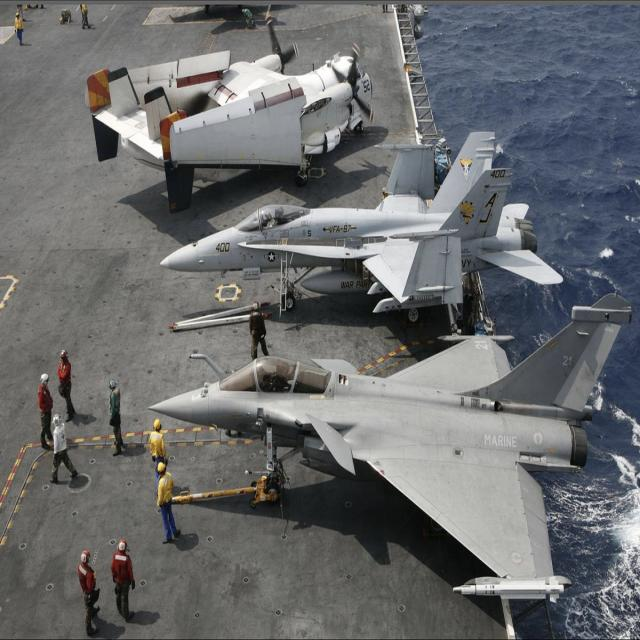MIL_Plane: (147, 290, 632, 603), (160, 132, 564, 325), (80, 12, 370, 214)
